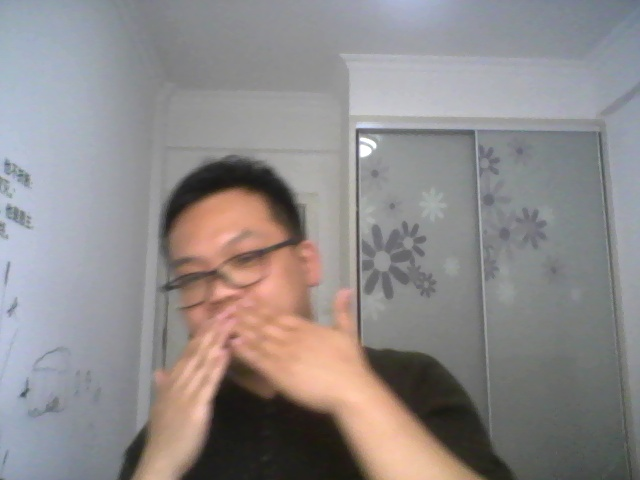Thank You: (130, 282, 399, 469)
